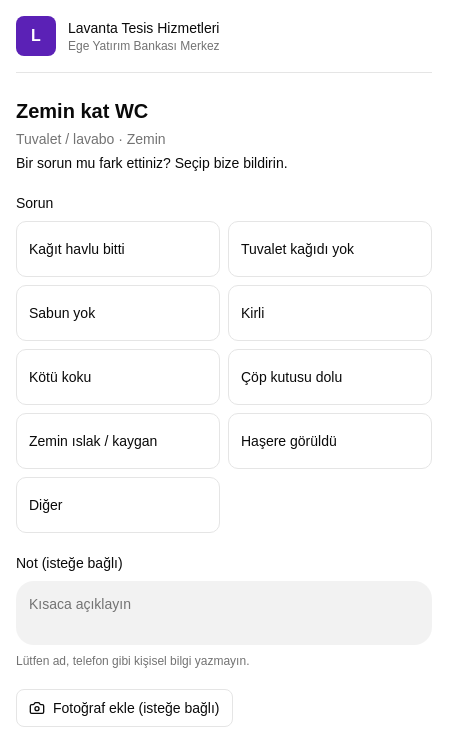
Test case: Batch 4.3 public QR bildirim sayfası › TC-4.3-05 aynı cihazdan bekleme süresi: sayfa yeniden açılınca form yerine bilgi gösterilir
Later steps or results of the test are not shown.
Click the button "Kirli" at {"x": 330, "y": 313}, box [228,285,432,341]
(page scrolled)
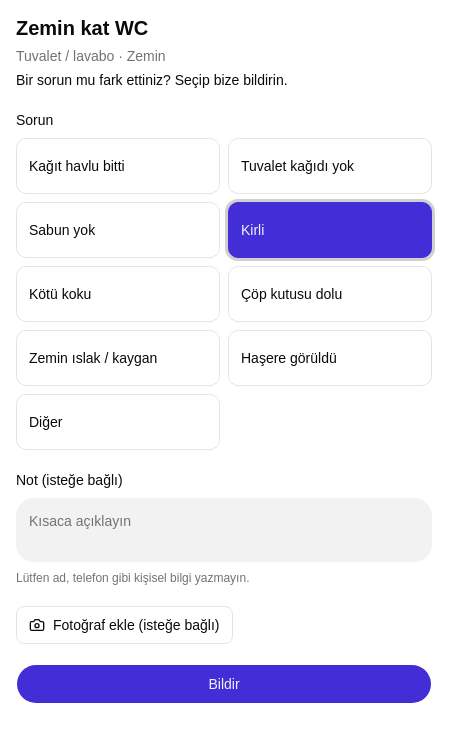
Click the button "Bildir" at {"x": 224, "y": 684}, box [16,664,432,704]
(page scrolled)
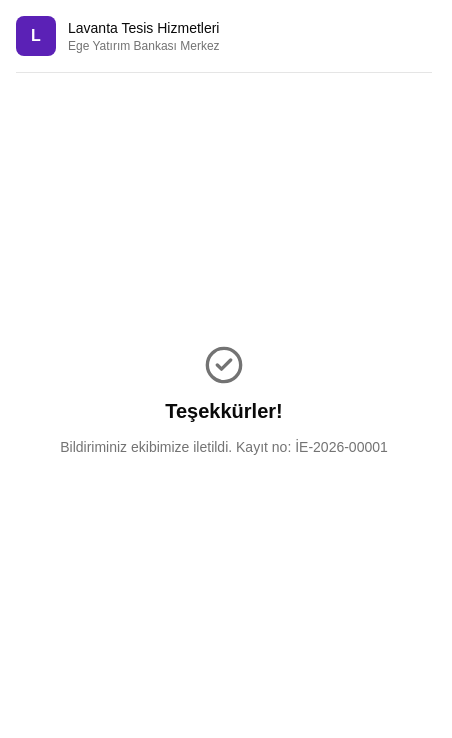
expect the heading "Teşekkürler!" is shown: met, box [165,396,283,424]
